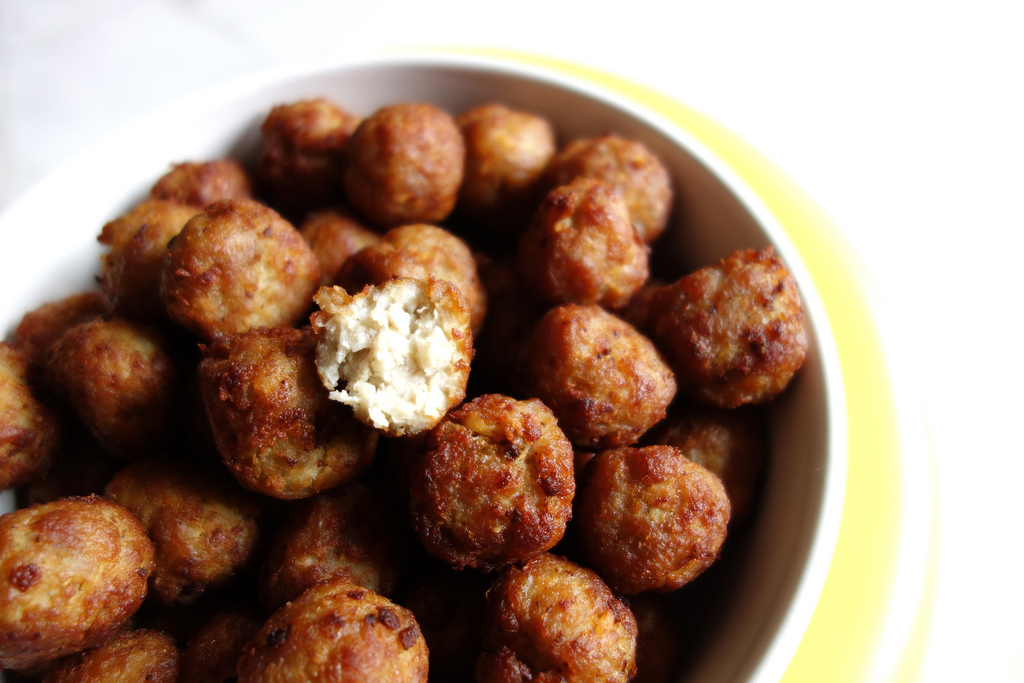meatballs: (411, 382, 652, 646), (306, 287, 506, 423)
